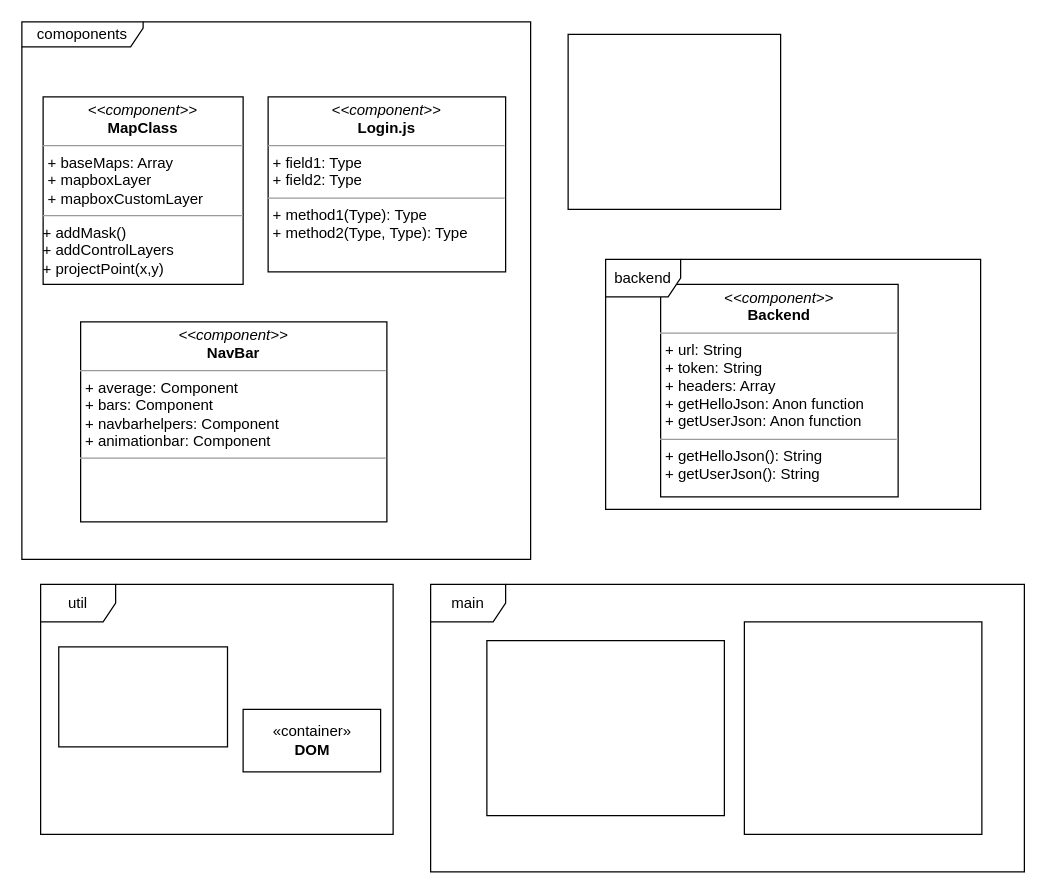
Some shapes in this 1046 by 894 pixel diagram are drawn without their labels. Here are the shapes that lost their labels. From the top down, the centre of each, then its label:
At [674,121]: "<<component>> Homepage + user + users".
At [143,696]: "<<Provider>> Redux + store".
At [605,727]: "<<component>> Index + map + get_city_centres()".
At [862,727]: "<<component>> App + constructor(props) + componentDidMount(): void + render()".
